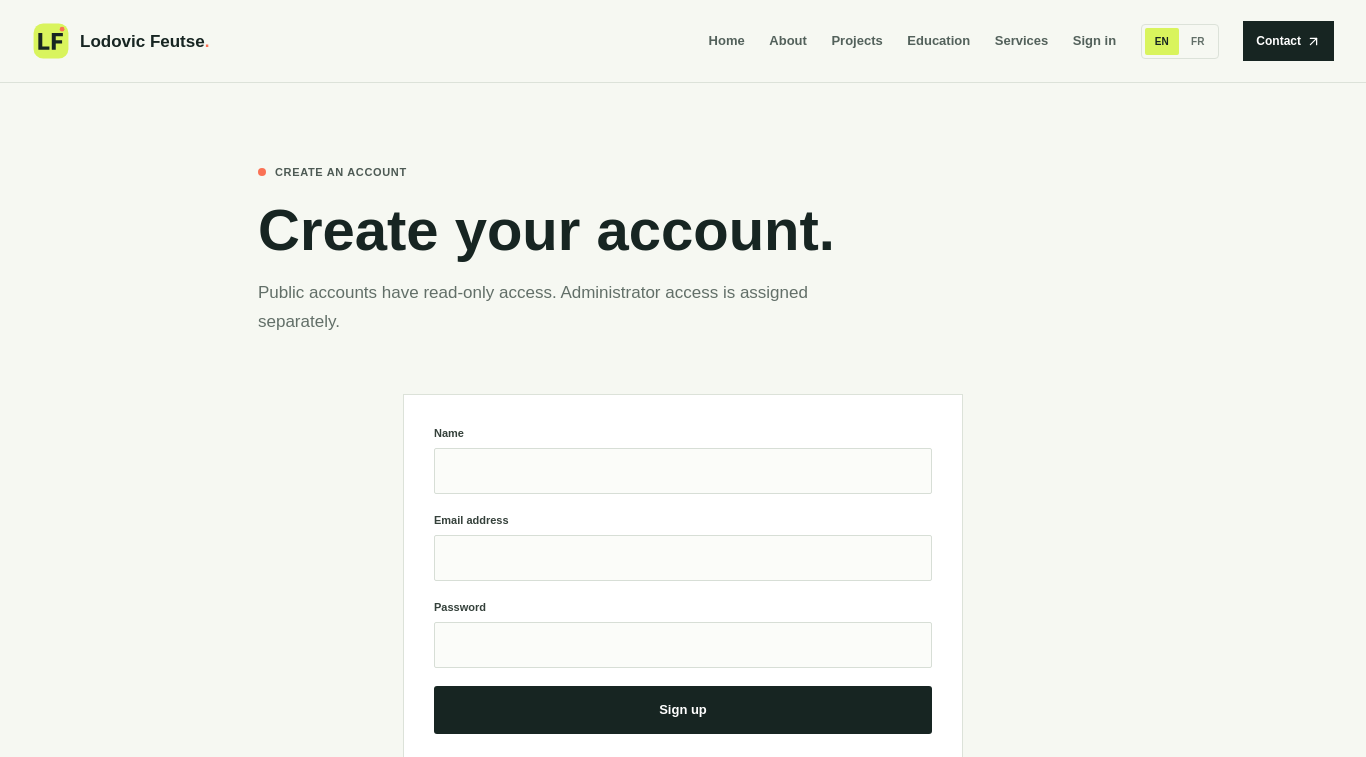
Test: authentication and dashboard › validates sign-up fields without sending a request
This screenshot has width=1366, height=757.
Click the button "Sign up". click: coordinates (683, 710)
box: x1=434 y1=686 x2=932 y2=734
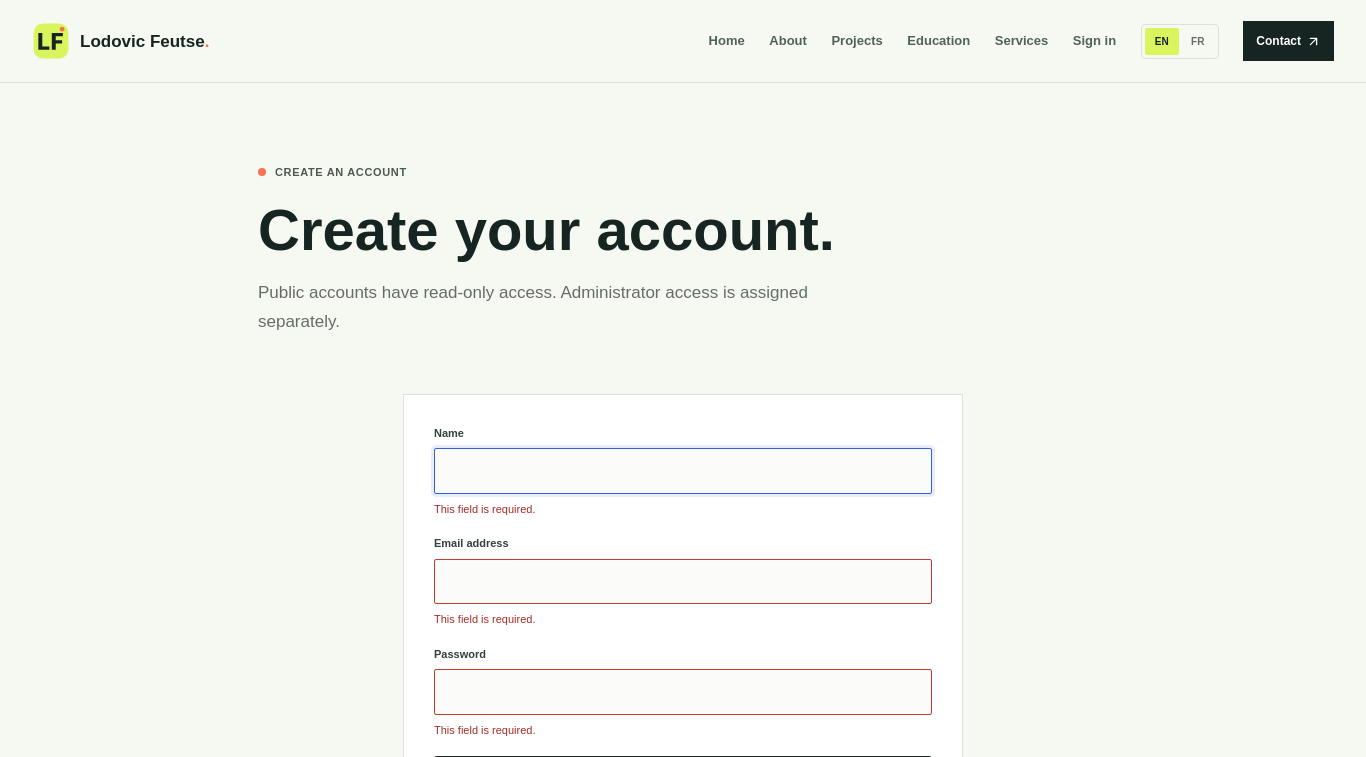
Expected: the text "This field is required." is shown 3 times, x1=434 y1=503 x2=536 y2=515; x1=434 y1=613 x2=536 y2=625; x1=434 y1=724 x2=536 y2=736
